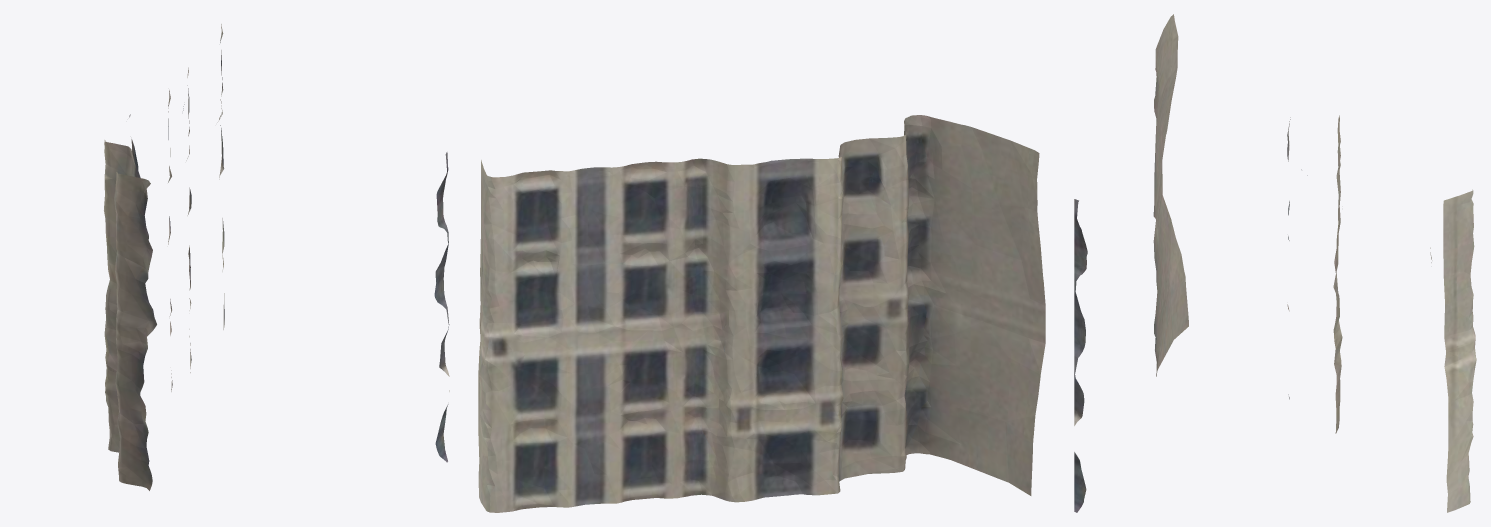
The model's file is Tile__004__001_L22_00000320.glb.
3 renders of one model, left to right at view 1: azimuth 30°, elevation 25°; view 2: azimuth 150°, elevation 25°; view 3: azimuth 270°, elevation 25°, orthographic. The views are drawn at different scales.
Parts seen in each view (by area): view 1: root; view 2: root; view 3: root.
Part boxes in pixels (x1=…): root: x1=104, y1=24, x2=449, y2=490; root: x1=478, y1=115, x2=1045, y2=512; root: x1=1074, y1=14, x2=1476, y2=512.
Size of the model in its own units: 11.25 by 8.78 by 10.26.
Materials: 1 (1 with a texture image).
